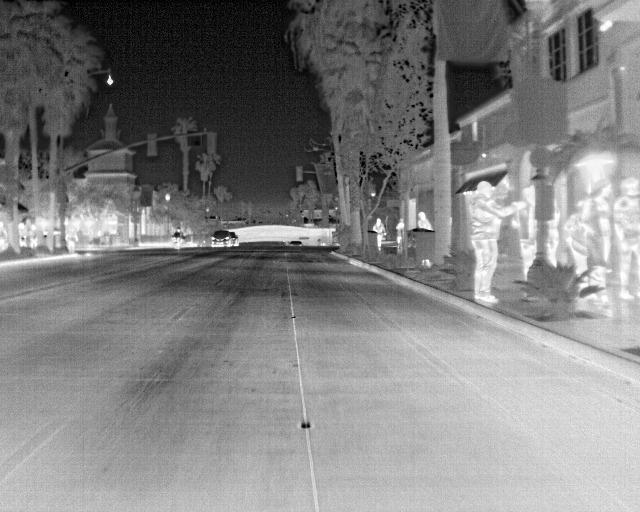bicycle: (209, 230, 238, 248)
empty: (469, 180, 523, 302), (609, 174, 639, 297), (369, 214, 384, 254), (413, 207, 433, 234), (64, 217, 78, 254), (393, 214, 405, 251), (17, 221, 30, 247), (27, 223, 41, 246)
